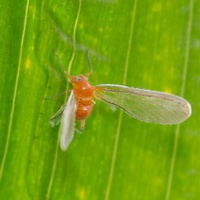insect: (50, 70, 191, 150)
